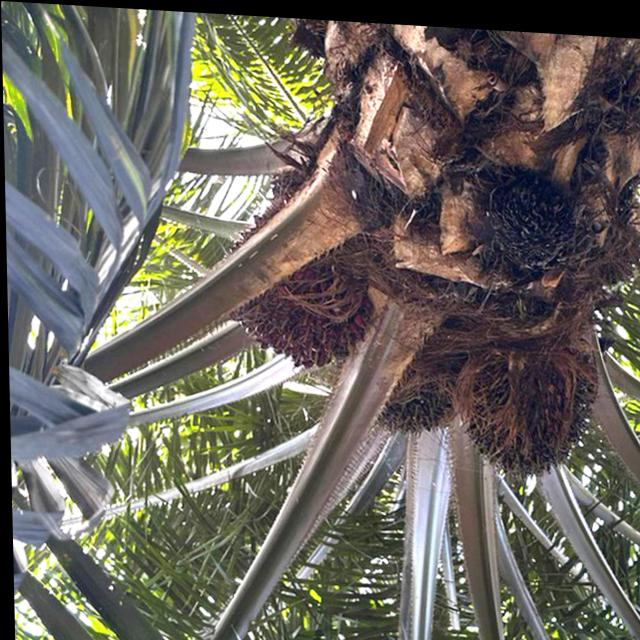ripe: (222, 273, 366, 381)
